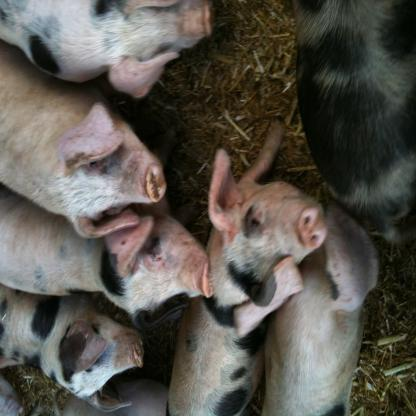boar: (0, 0, 379, 416), (293, 0, 416, 243)
